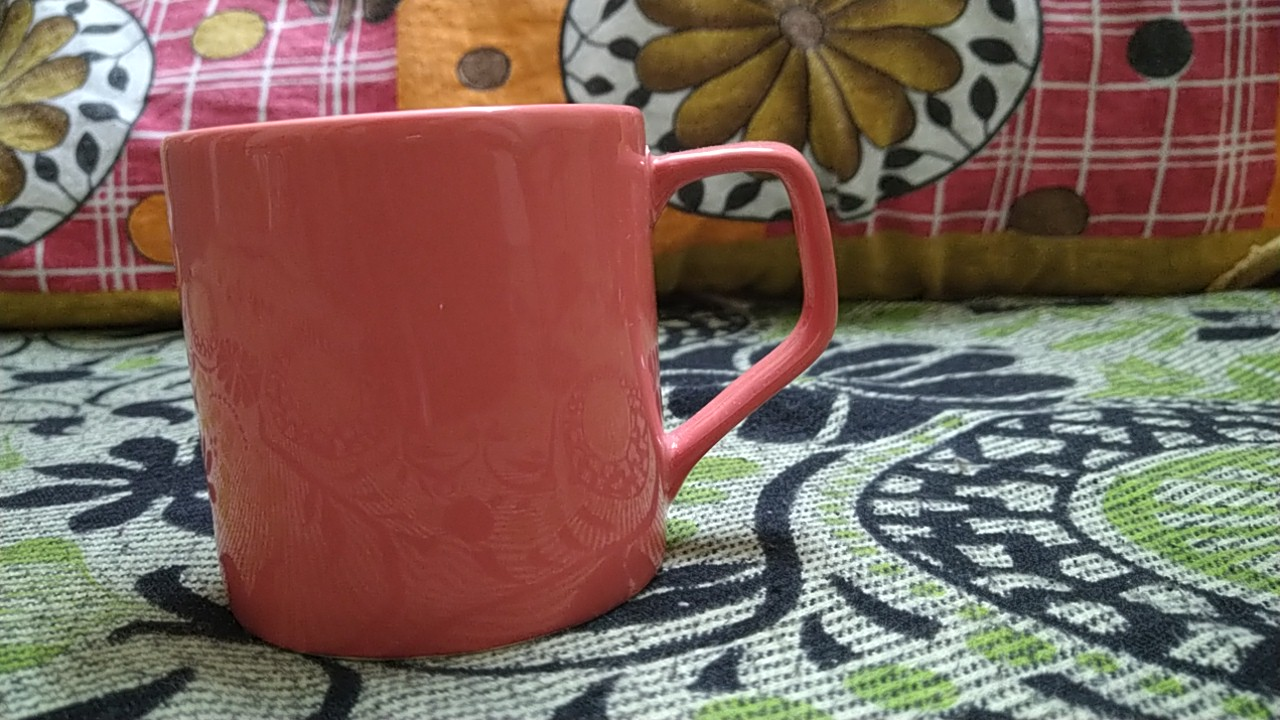cup: (138, 98, 869, 668)
